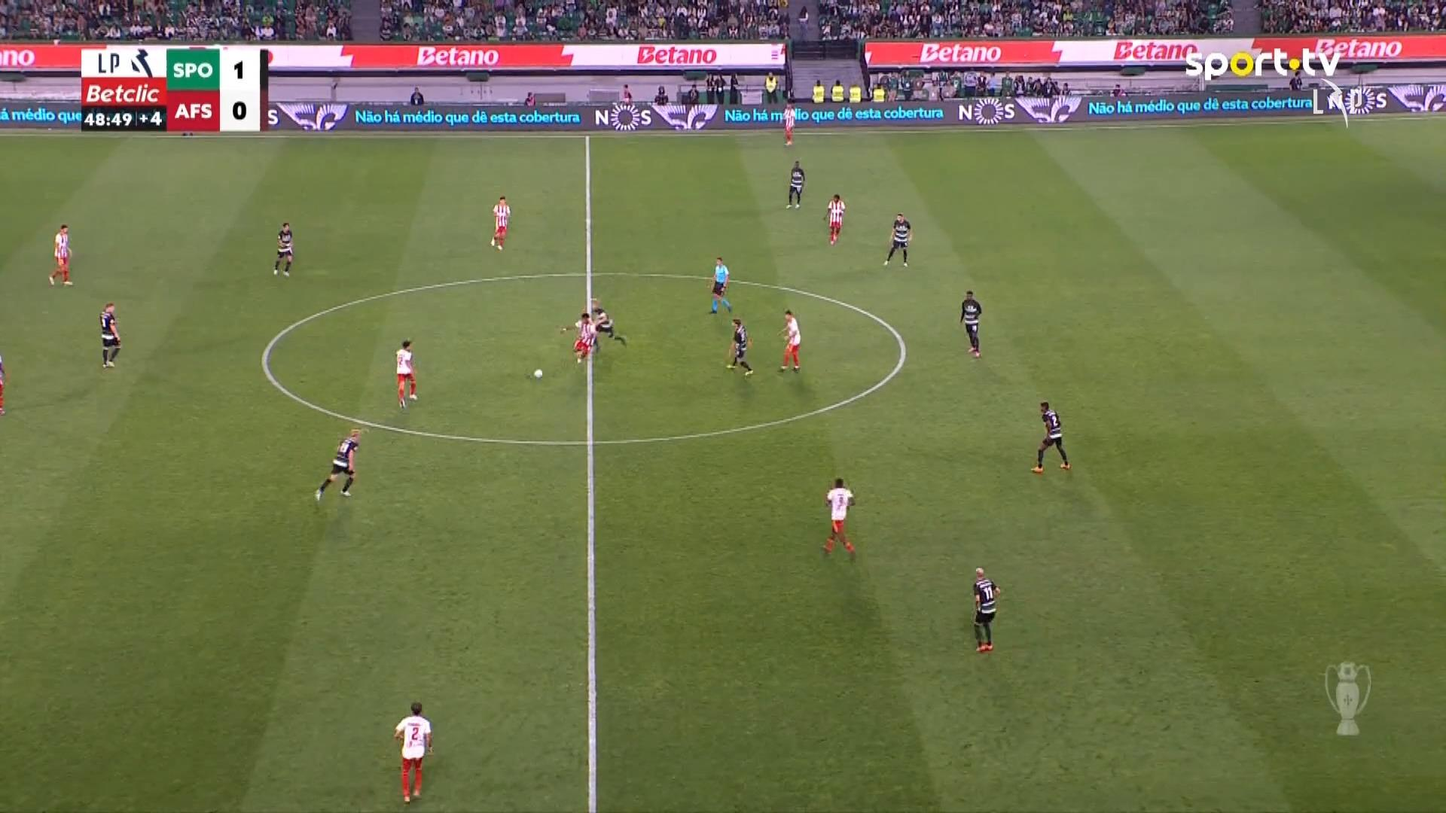ball: (533, 369, 542, 379)
player: (393, 701, 433, 803), (313, 428, 362, 501), (1030, 400, 1071, 473), (822, 477, 856, 556), (971, 566, 1000, 652), (560, 312, 598, 363), (590, 298, 627, 348), (725, 318, 754, 376), (47, 223, 73, 287), (883, 212, 912, 267), (395, 338, 417, 410), (959, 290, 982, 357), (777, 309, 801, 372), (99, 302, 121, 367), (273, 221, 294, 277), (824, 193, 846, 245), (490, 195, 510, 251), (786, 160, 805, 209), (782, 101, 796, 146), (0, 355, 6, 416)
referee: (708, 256, 732, 314)
